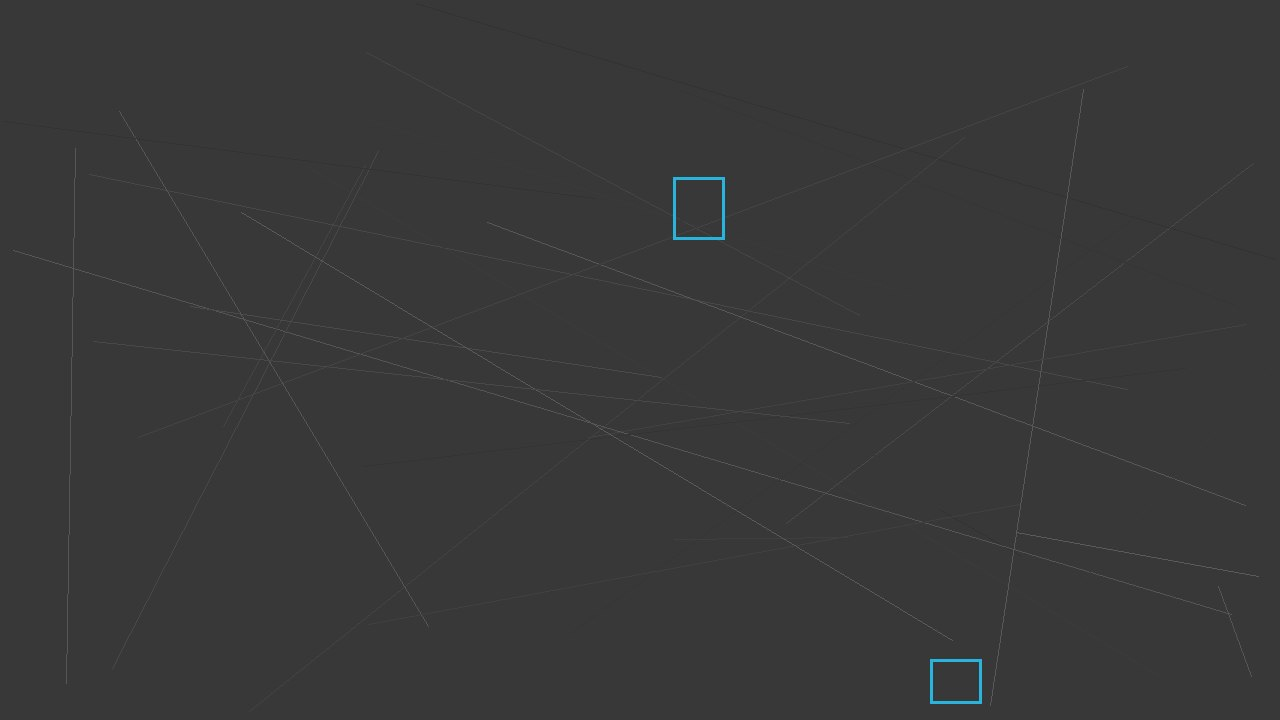D00: (673, 177, 724, 239)
D10: (930, 659, 981, 703)
